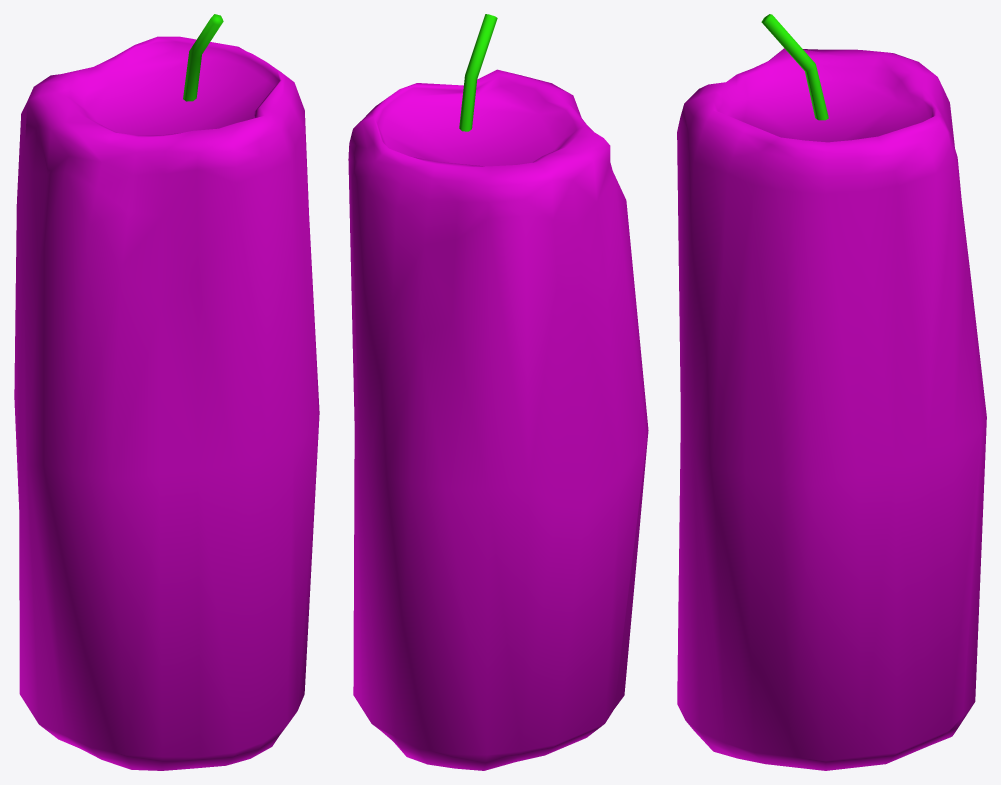
File: Candle.fbx
3 renders of one model, left to right at view 1: azimuth 30°, elevation 25°; view 2: azimuth 150°, elevation 25°; view 3: azimuth 270°, elevation 25°, orthographic. The views are drawn at different scales.
Visible parts, largest first — view 1: Свечка; view 2: Свечка; view 3: Свечка.
Boxes of the visible parts, x1,y1,x2,y2 form: Свечка: (14,14,319,770); Свечка: (348,14,648,770); Свечка: (677,14,986,770).
Bounding box in the file's own units: 16.58 × 40.23 × 15.59.
